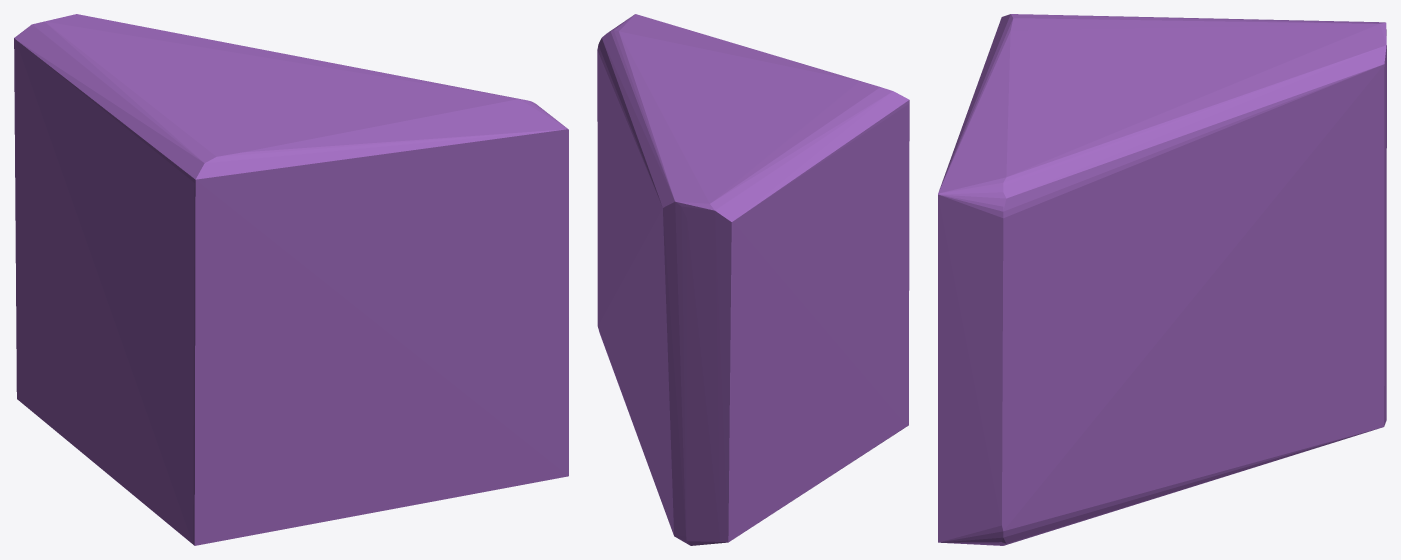
Rendered from screen_hospital_b06.glb.
The picture shows the model from 3 angles, left to right: view 1: azimuth 30°, elevation 25°; view 2: azimuth 150°, elevation 25°; view 3: azimuth 270°, elevation 25°; orthographic projection. The views are drawn at different scales.
Parts seen in each view (by area): view 1: geometry_0; view 2: geometry_0; view 3: geometry_0.
Part boxes in pixels (box(x1,y1,x2,y2)): geometry_0: box(14, 14, 568, 545); geometry_0: box(597, 14, 909, 545); geometry_0: box(938, 14, 1386, 545).
Size of the model in its own units: 0.4363 by 0.4613 by 0.48.
